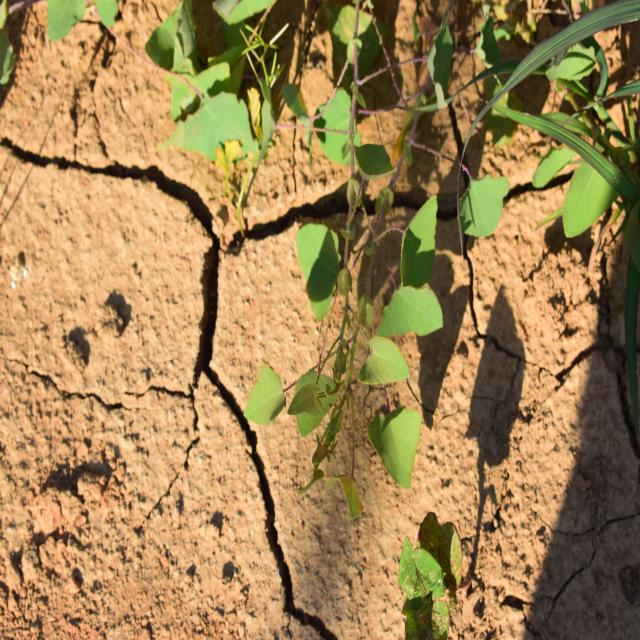Asiatic_Smartweed: (263, 200, 453, 504)
